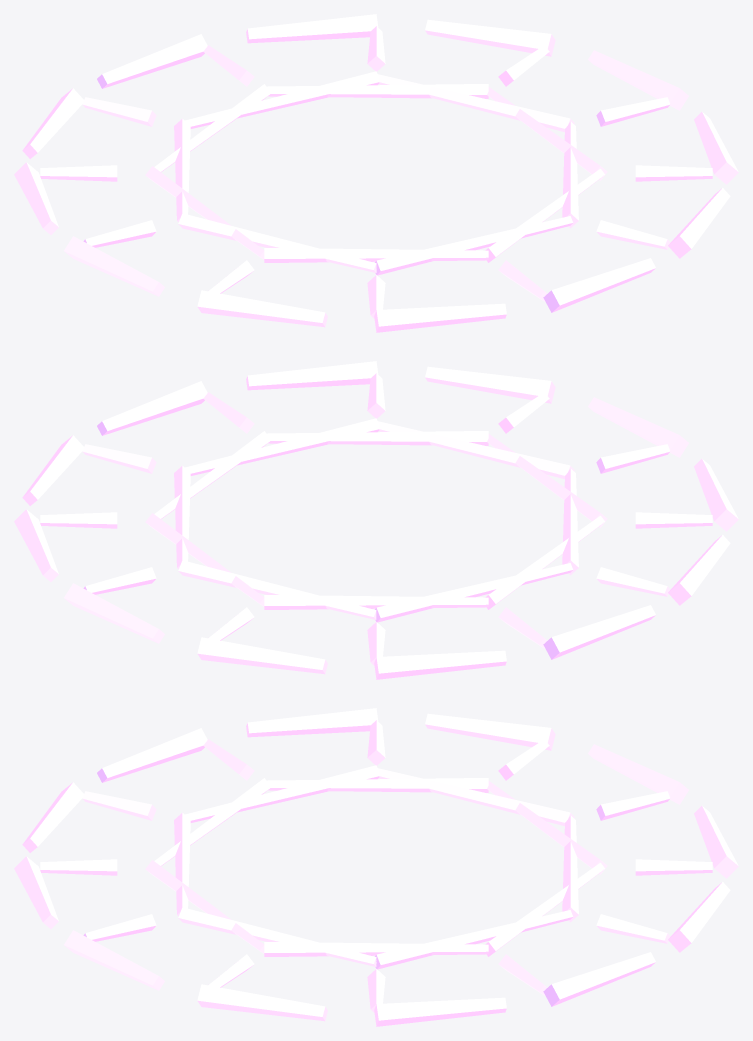
The model's file is arcane_glyph_a.glb.
The picture shows the model from 3 angles, top to bottom: view 1: azimuth 30°, elevation 25°; view 2: azimuth 150°, elevation 25°; view 3: azimuth 270°, elevation 25°; orthographic projection.
Parts seen in each view (by area): view 1: arcane_glyph_a; view 2: arcane_glyph_a; view 3: arcane_glyph_a.
Part boxes in pixels (<box>): arcane_glyph_a: <box>14,14,738,332</box>; arcane_glyph_a: <box>14,361,738,679</box>; arcane_glyph_a: <box>14,708,738,1026</box>.
Bounding box in the file's own units: 1.04 × 0.036 × 1.04.
